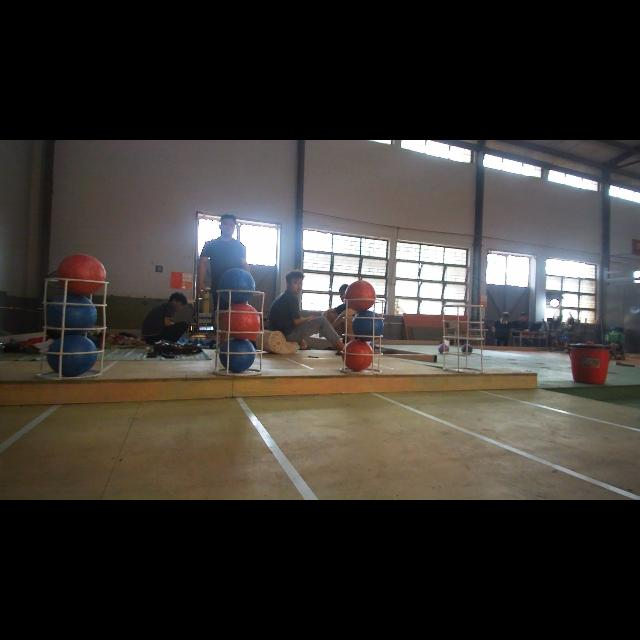B: (47, 336, 97, 378), (48, 294, 96, 336), (218, 336, 256, 372), (218, 268, 256, 304), (352, 311, 383, 341)
R: (57, 254, 106, 294), (222, 304, 260, 340), (345, 280, 377, 312), (342, 340, 373, 372)
